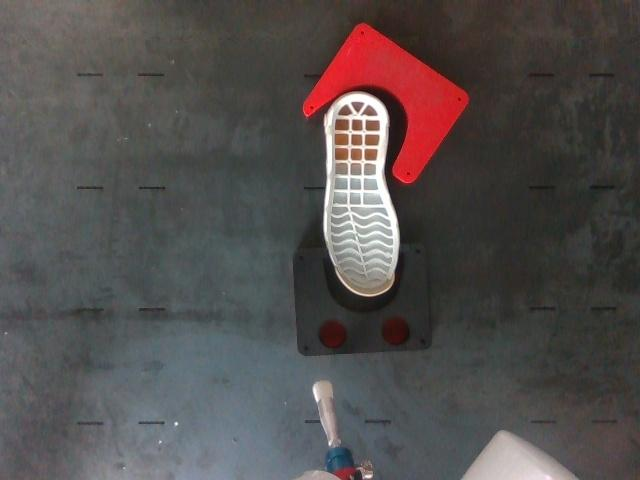shoes: (327, 95, 398, 294)
